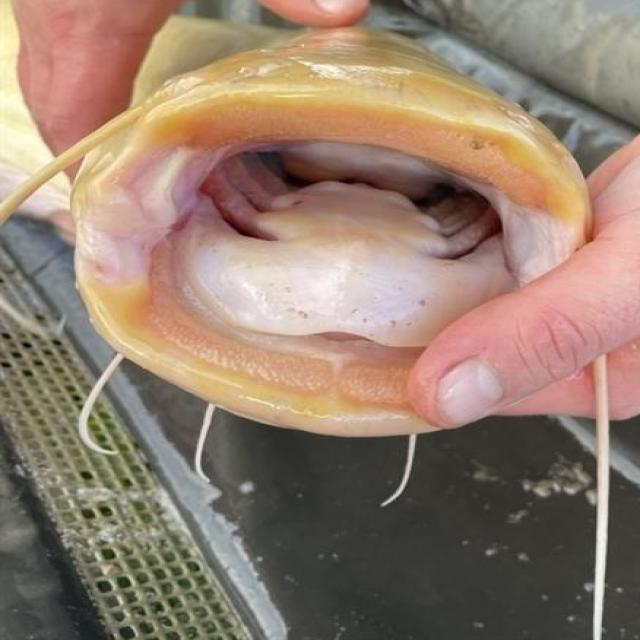Catfish: (0, 24, 640, 518)
